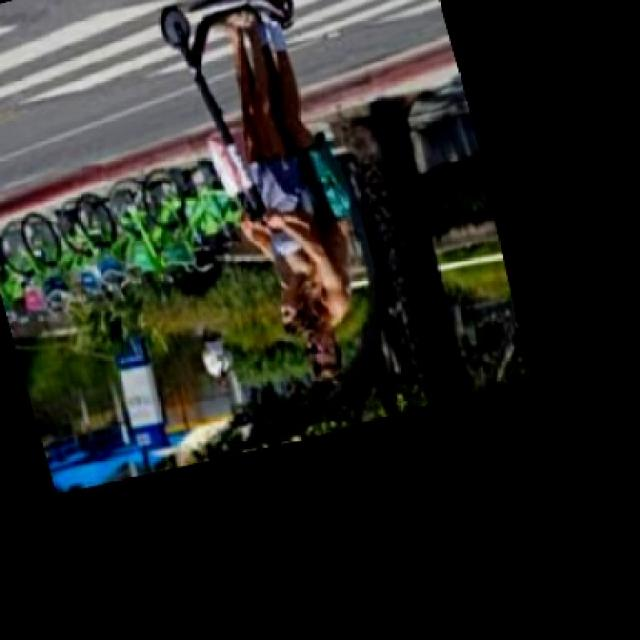bare_head: (270, 286, 314, 329), (303, 325, 341, 374)
human: (251, 13, 343, 379), (220, 15, 307, 332)
kickboard: (153, 3, 295, 44)
